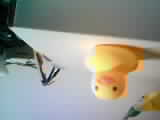duck: (74, 36, 150, 108)
